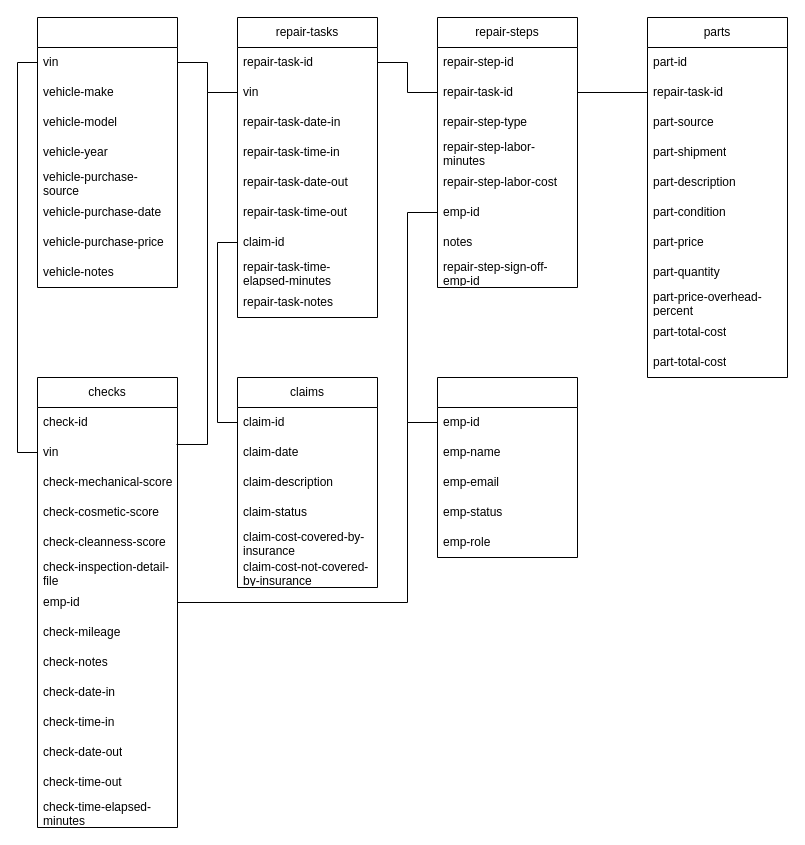
This 805x845 diagram has some shape labels left out. Here are the shapes that lost their labels. From the top down, the box of each, then its label:
(36, 16, 178, 288): vehicles
(436, 376, 578, 558): people
